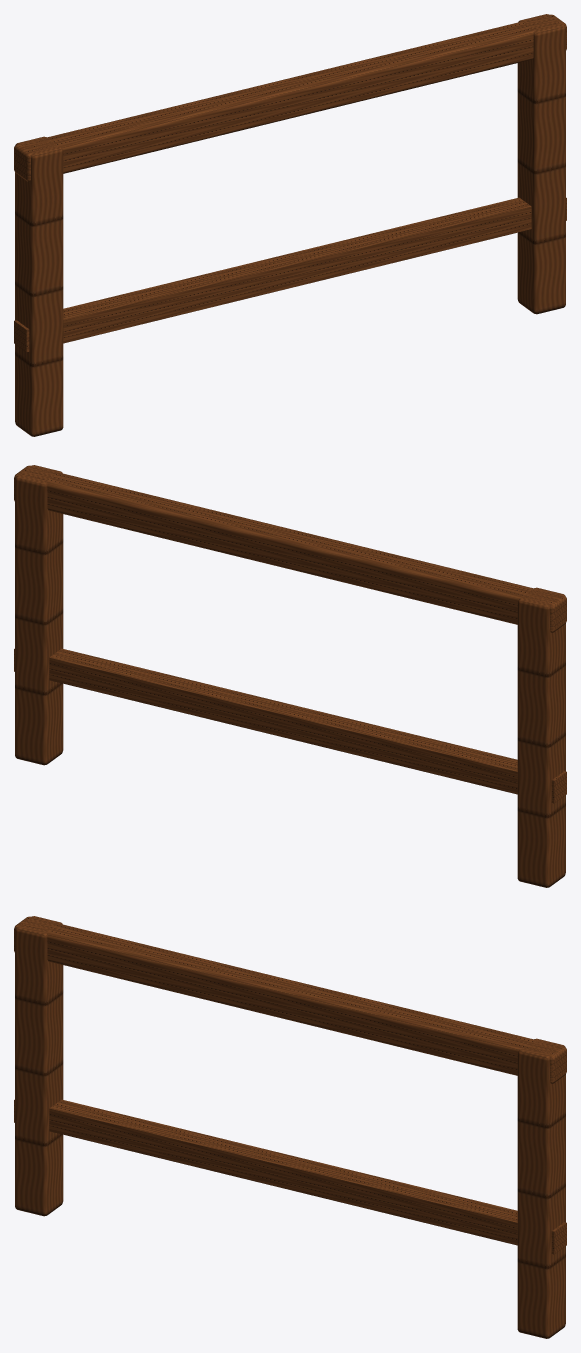
The model's file is modular-survival-base-builder-straight-guardrail-b8124629__24226.glb.
3 views of the same model, one above another, from view 1: azimuth 30°, elevation 25°; view 2: azimuth 150°, elevation 25°; view 3: azimuth 330°, elevation 25° (orthographic).
Visible parts, largest first — view 1: straight-guardrail; view 2: straight-guardrail; view 3: straight-guardrail.
Part boxes in pixels (box(x1,y1,x2,y2)): straight-guardrail: box(14, 14, 566, 436); straight-guardrail: box(14, 465, 566, 887); straight-guardrail: box(14, 916, 566, 1338).
Bounding box in the file's own units: 2 × 1 × 0.1199.
Materials: 1 (1 with a texture image).
